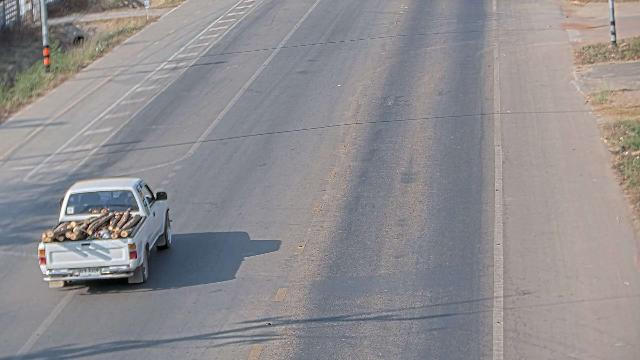pickup-truck: (37, 176, 172, 289)
